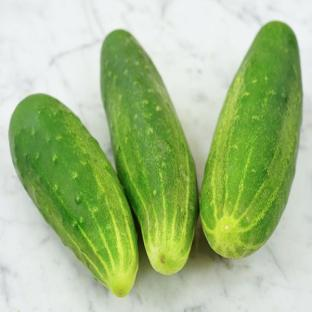Cucumber: (9, 95, 138, 296), (201, 22, 302, 257), (101, 30, 198, 274)
